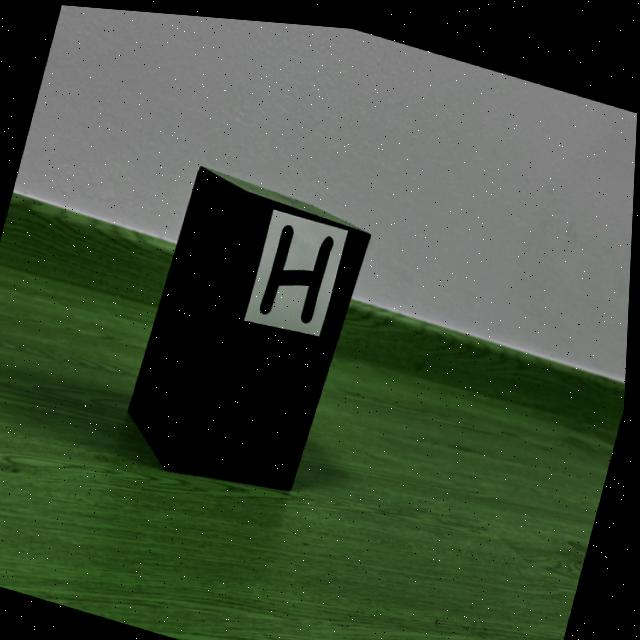H: (262, 220, 335, 317)
